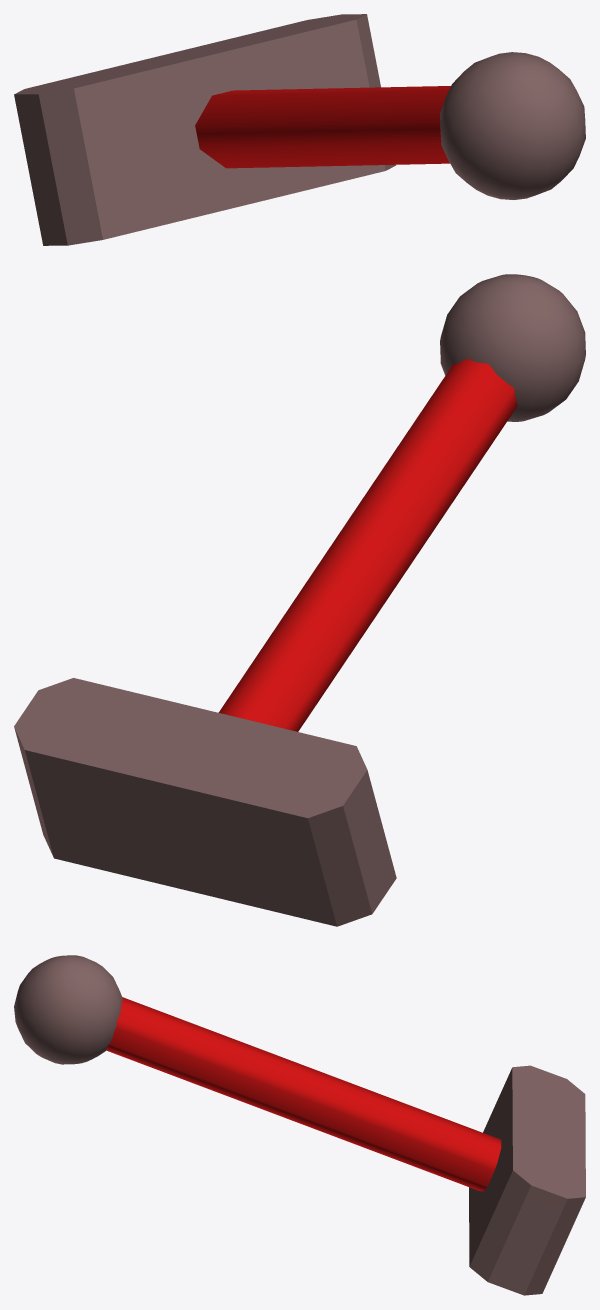
Rendered from Macrophages_arm.obj.
3 views of the same model, one above another, from view 1: azimuth 30°, elevation 25°; view 2: azimuth 150°, elevation 25°; view 3: azimuth 270°, elevation 25° (orthographic). The views are drawn at different scales.
Visible parts, largest first — view 1: group2 group1 pCylinder1 pCube1, group2 group1 pCylinder1, pSphere1 group2 group1; view 2: group2 group1 pCylinder1 pCube1, group2 group1 pCylinder1, pSphere1 group2 group1; view 3: group2 group1 pCylinder1, group2 group1 pCylinder1 pCube1, pSphere1 group2 group1.
Part boxes in pixels (box(x1,y1,x2,y2)): group2 group1 pCylinder1 pCube1: box(14, 14, 396, 245); group2 group1 pCylinder1: box(195, 86, 450, 168); pSphere1 group2 group1: box(440, 52, 585, 199); group2 group1 pCylinder1 pCube1: box(14, 678, 396, 926); group2 group1 pCylinder1: box(218, 358, 517, 731); pSphere1 group2 group1: box(440, 274, 585, 421); group2 group1 pCylinder1: box(106, 997, 501, 1191); group2 group1 pCylinder1 pCube1: box(469, 1065, 585, 1295); pSphere1 group2 group1: box(14, 955, 122, 1064).
Bounding box in the file's own units: 1.83 × 2.01 × 3.7.
Materials: 1 (1 with a texture image).
